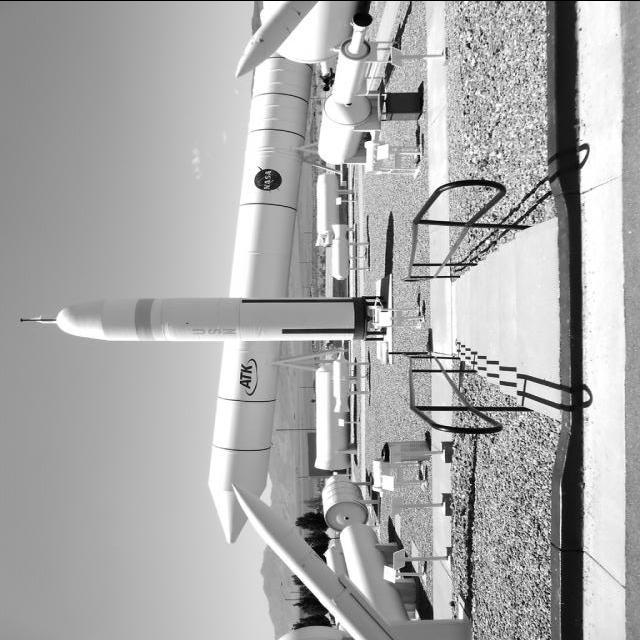missile: (19, 293, 386, 343)
